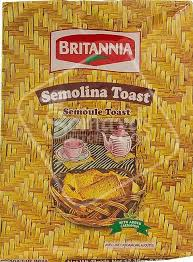Britania-toast-large: (2, 2, 193, 257)
